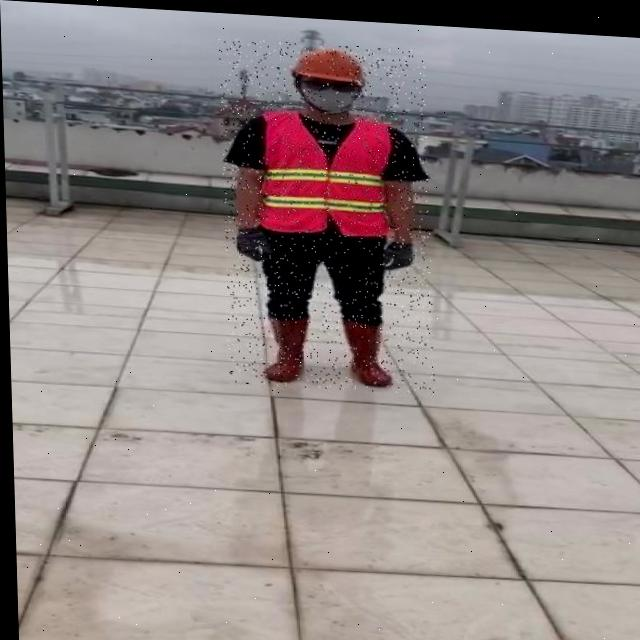Gloves: (235, 223, 269, 259), (379, 234, 415, 266)
Helmet: (290, 42, 367, 111)
Safety-Boot: (262, 308, 310, 380), (342, 313, 391, 383)
Safety-Vest: (256, 104, 394, 236)
